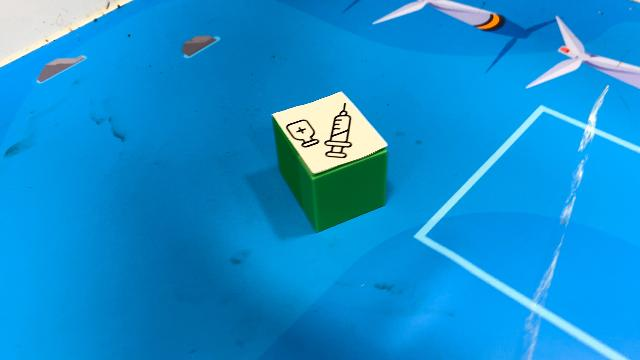syringe: (270, 89, 390, 233)
